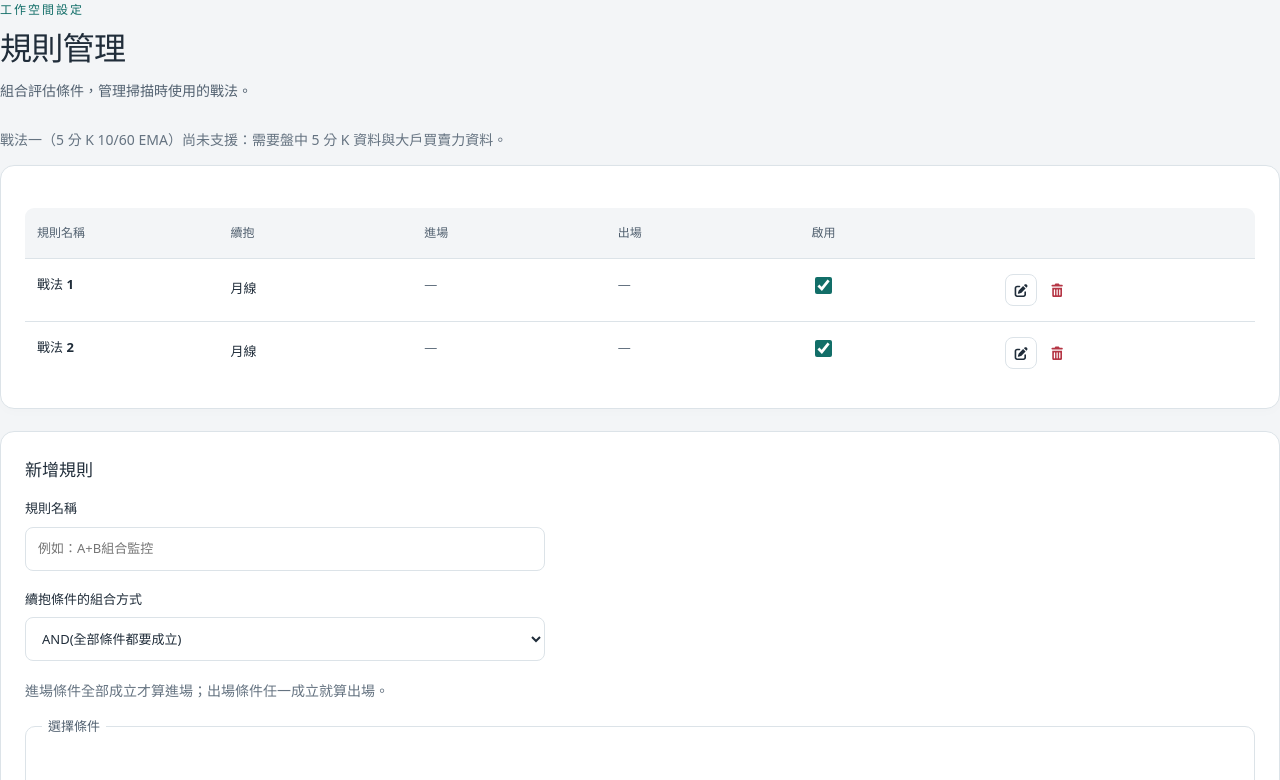
Test case: 只展開一列，PUT 成功後關閉並使規則相關快取失效
Click the button named "編輯 ". click: (1021, 290)
box: [1005,274,1037,306]
(page scrolled)
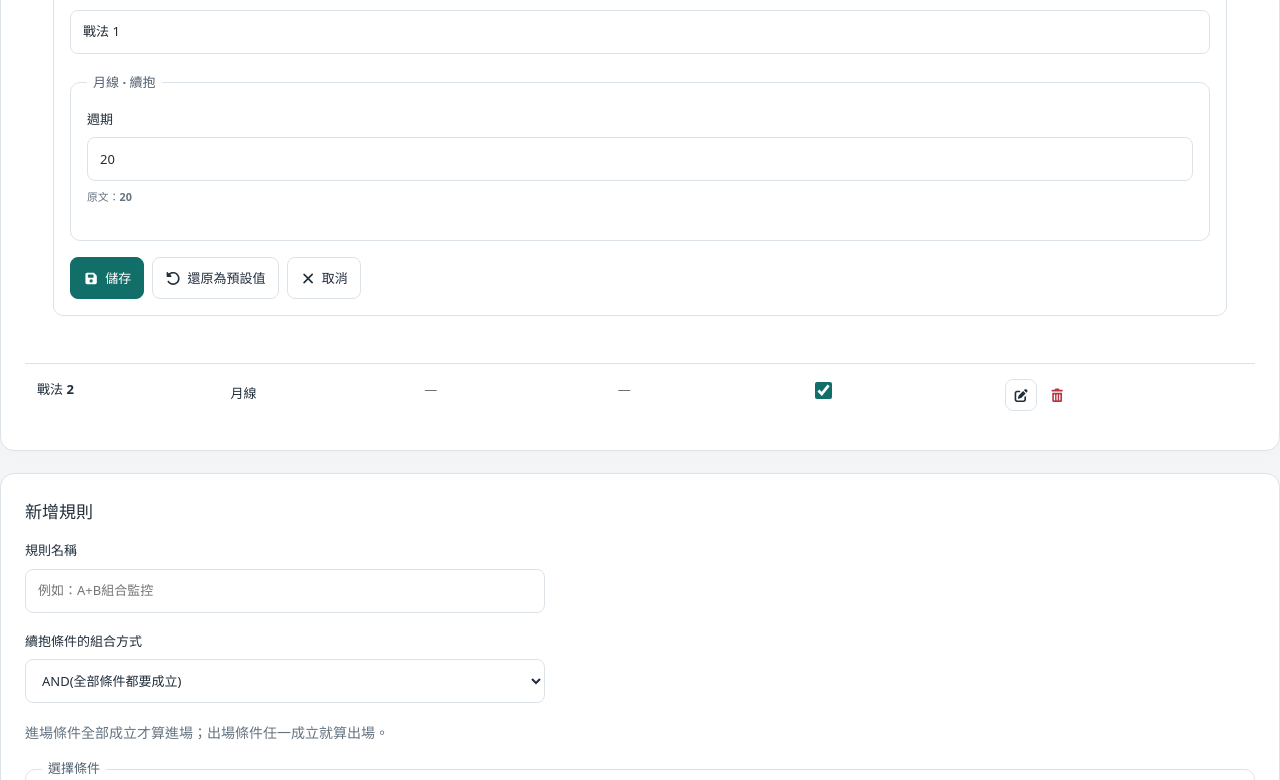
Click the button named "編輯 ". click: (1021, 395)
box: [1005,379,1037,411]
(page scrolled)
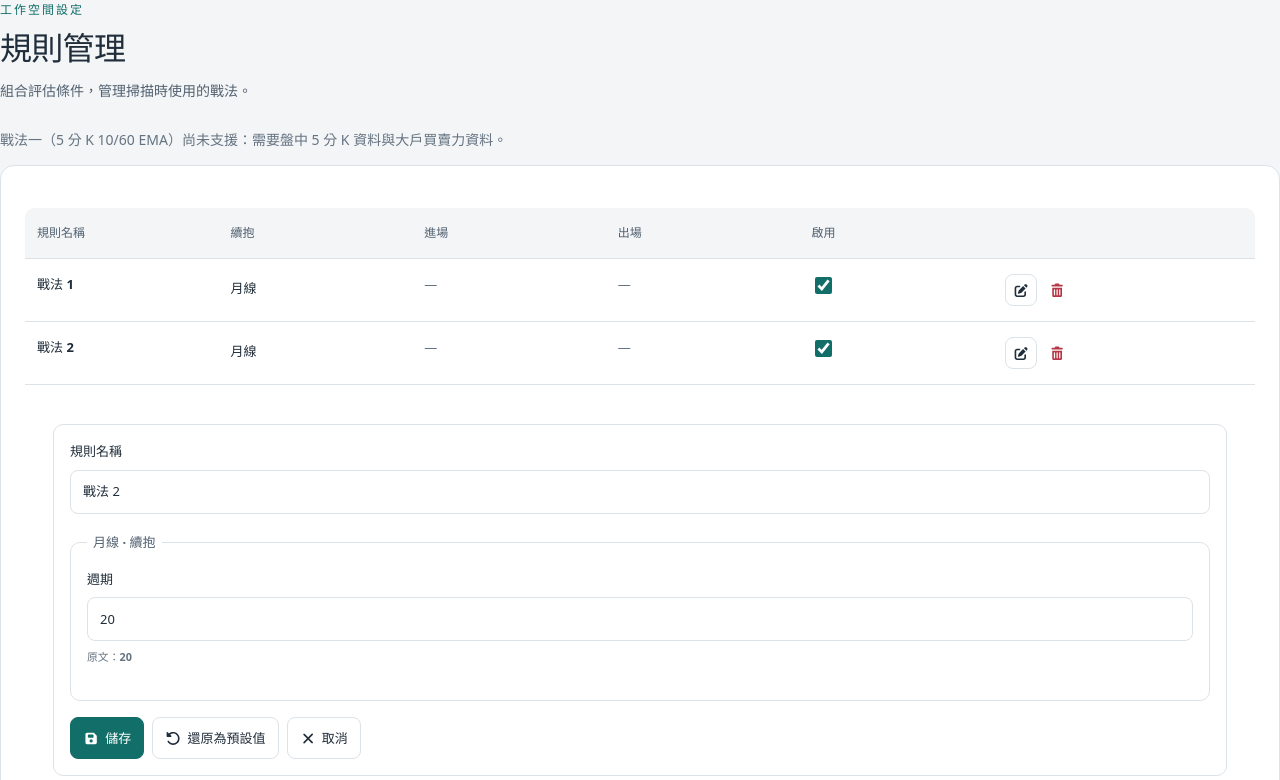
Expected: the number of buttons "儲存" is 1
Click the button "儲存". click: (107, 738)
box: [70,717,144,759]
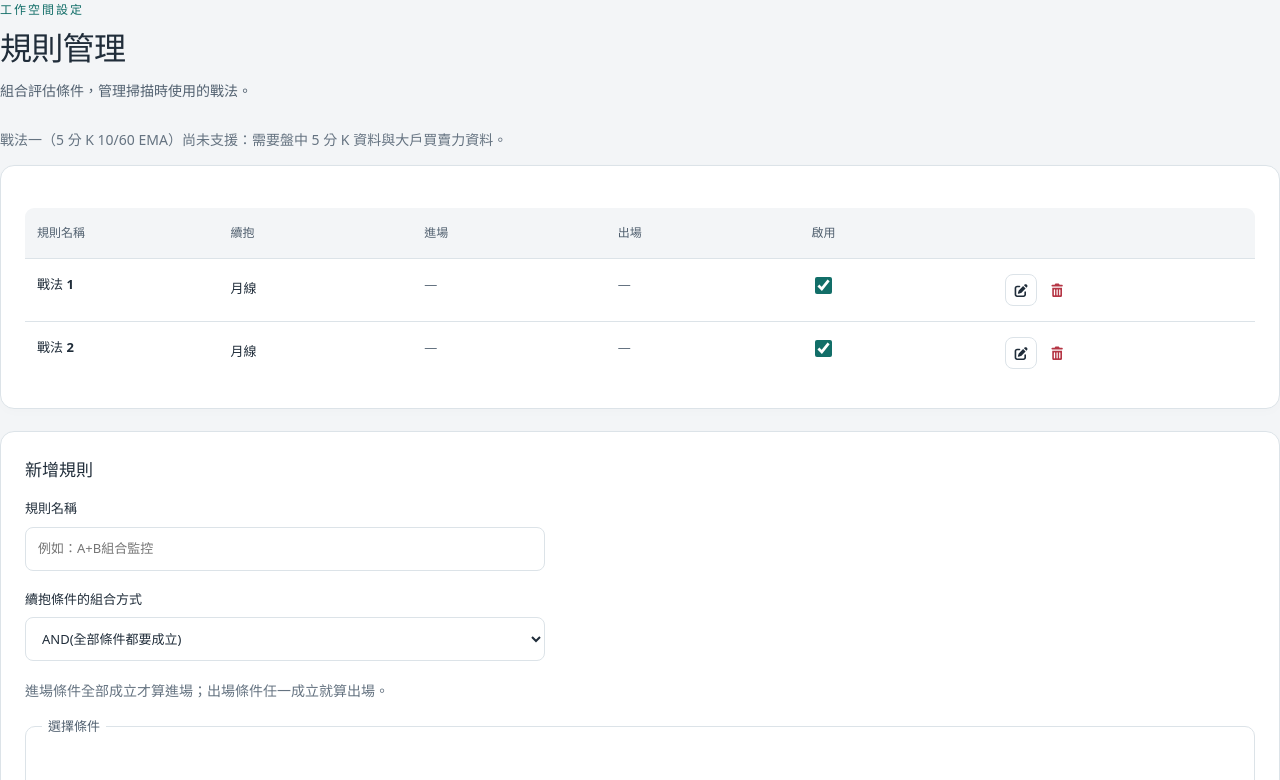
Expected: the button "儲存" is gone
